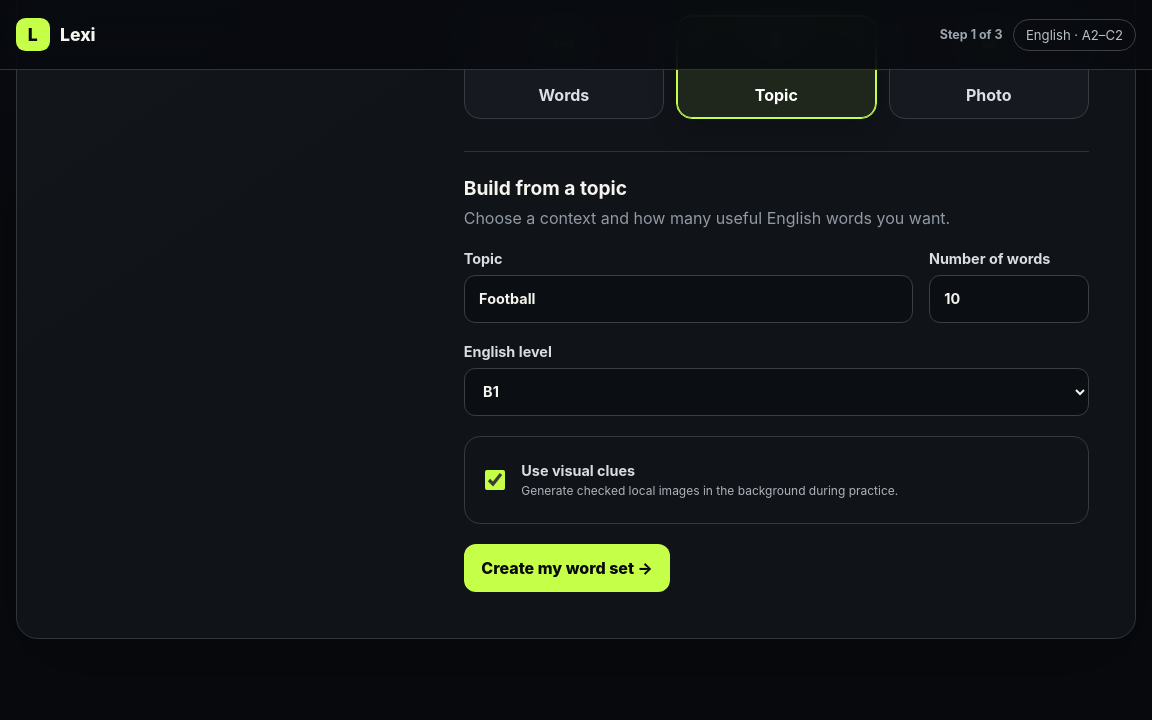
Test: VocabularyPage › explains when final validation publishes no exercises
(page scrolled)
Submit the form named "Create my word set", box [464,151,1089,592]
(page scrolled)
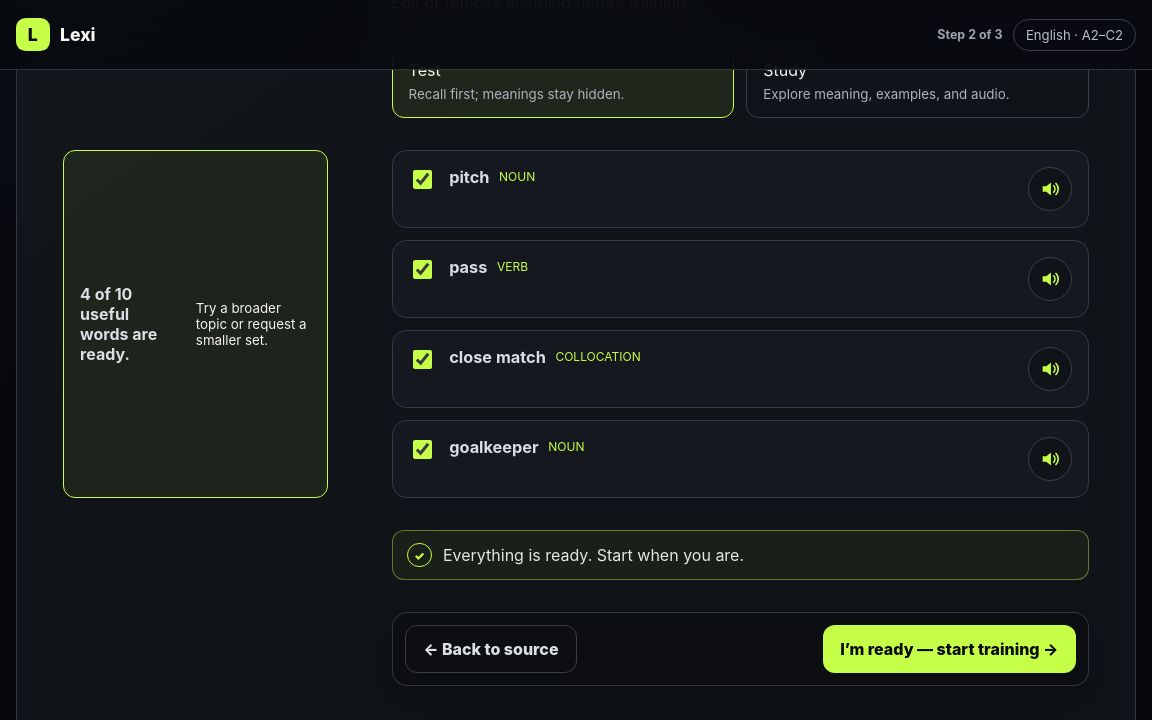
Click the button "I’m ready — start training →".
click(949, 650)  # box [822,626,1076,674]
(page scrolled)
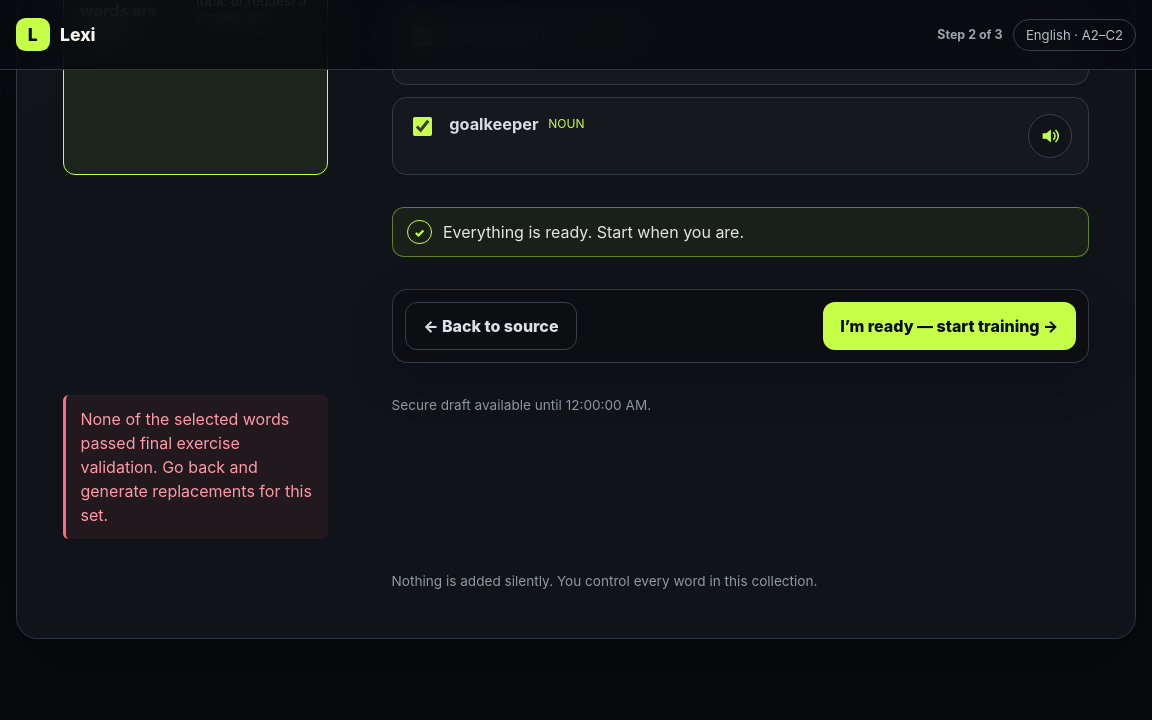
Expected: the message shows "None of the selected words passed final exercise validation. Go back and generate replacements for this set.", [80,410,312,526]
